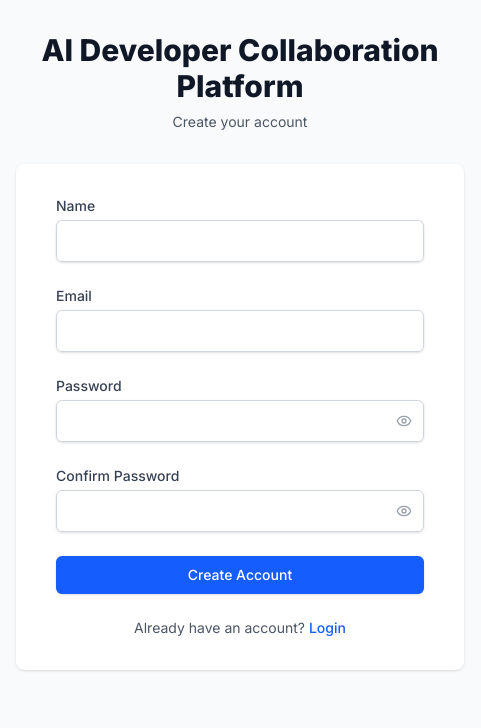
Scenario: Register Page › 4. requires password minimum length
The image size is (481, 728).
Type "short" into the password field labelled "Password" at (240, 421), box [56,400,424,442]
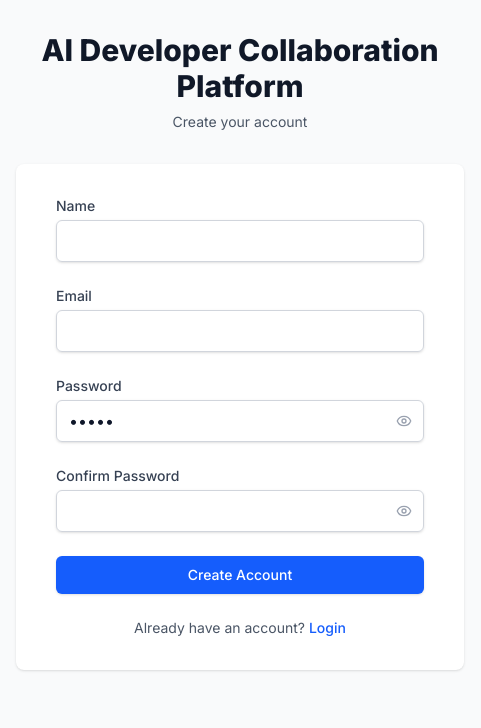
Click the button "Create Account" at (240, 575), box [56,556,424,594]
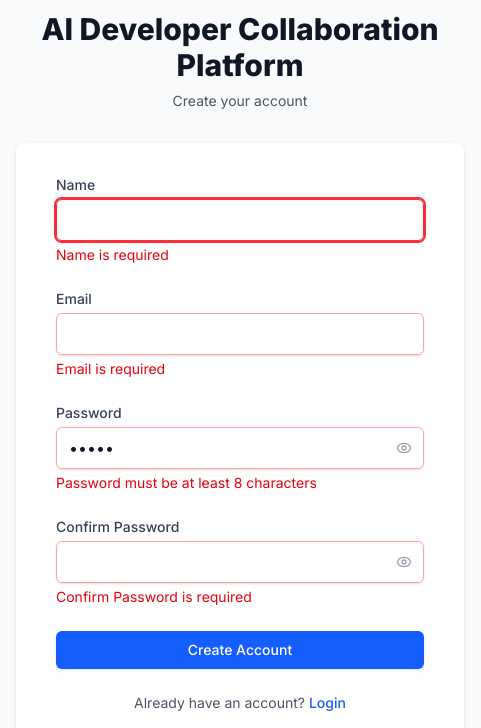
Check: the text "Password must be at least 8 characters" is shown, box [56,474,317,491]
